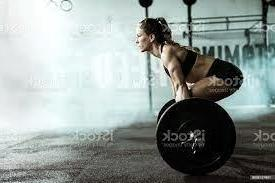Barbell: (194, 139, 206, 149)
